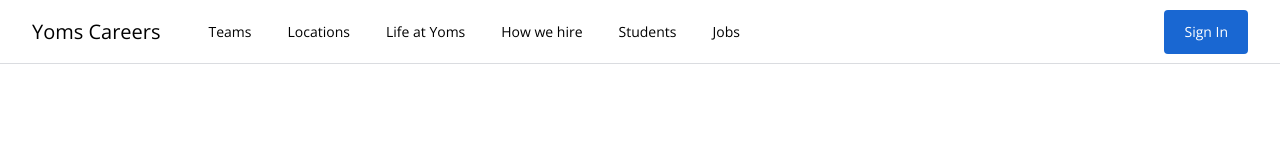
Test: MainNav › when user is logged in › displays subnavigation menu with additional information
What coordinates should you click on to do the following:
click the button with test id "login-button"
I would click on:
 (1206, 32)
Its box is [1164,10,1248,54].
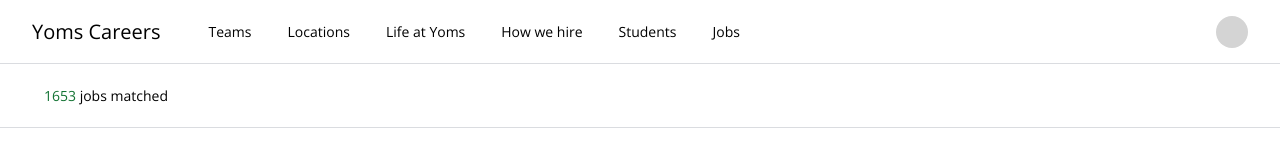
Expected: the element with test id "subnav" is shown, [0,64,1279,128]
